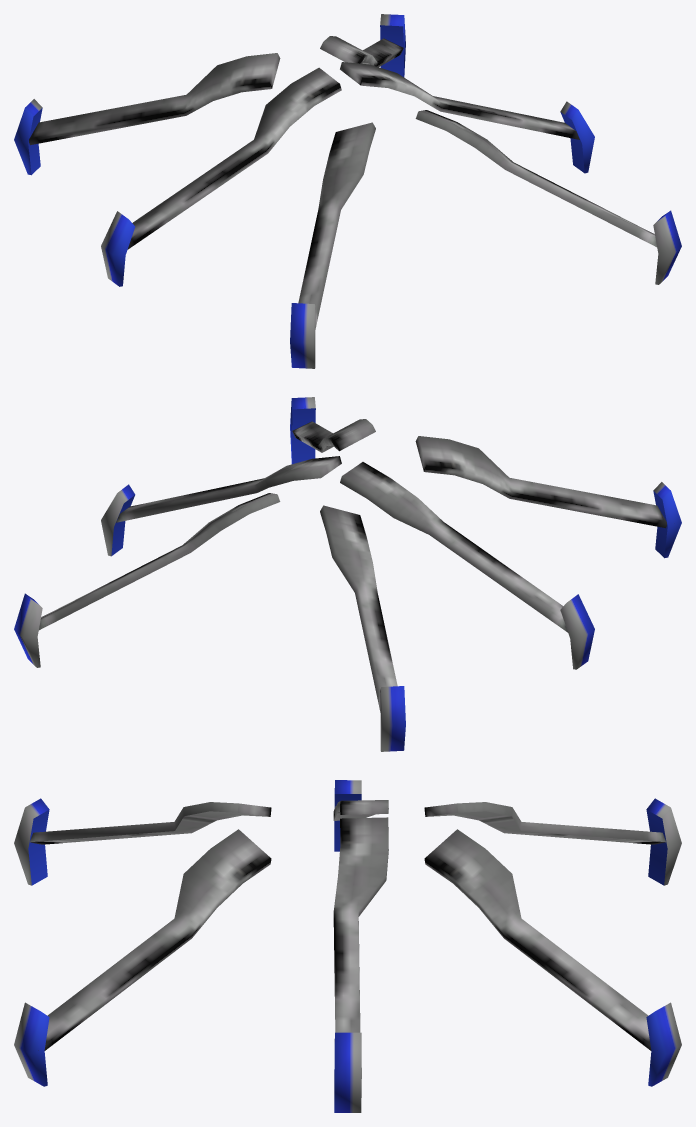
Rendered from widowmaker_mine_bottom.obj.
3 renders of one model, top to bottom at view 1: azimuth 30°, elevation 25°; view 2: azimuth 150°, elevation 25°; view 3: azimuth 270°, elevation 25°, orthographic. The views are drawn at different scales.
Parts seen in each view (by area): view 1: Submesh_0.255.6D6E1B6A3E6AEC67.001; view 2: Submesh_0.255.6D6E1B6A3E6AEC67.001; view 3: Submesh_0.255.6D6E1B6A3E6AEC67.001.
Part boxes in pixels (left/top/right/bottom): Submesh_0.255.6D6E1B6A3E6AEC67.001: left=14, top=14, right=681, bottom=368; Submesh_0.255.6D6E1B6A3E6AEC67.001: left=14, top=397, right=681, bottom=751; Submesh_0.255.6D6E1B6A3E6AEC67.001: left=14, top=780, right=681, bottom=1112.
Size of the model in its own units: 0.4771 by 0.14 by 0.497.
